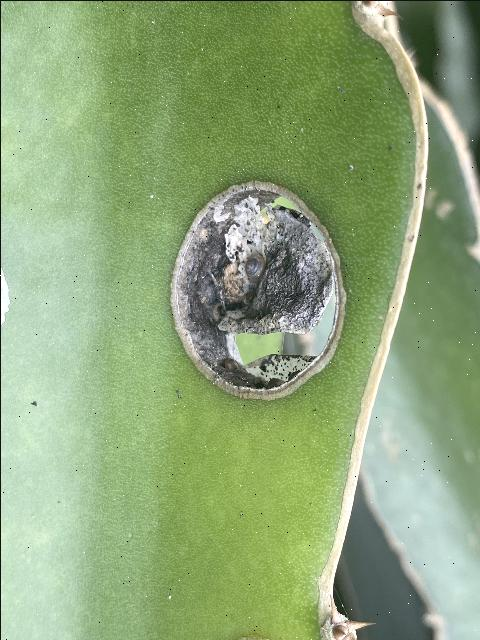stemcanker: (162, 164, 353, 409)
